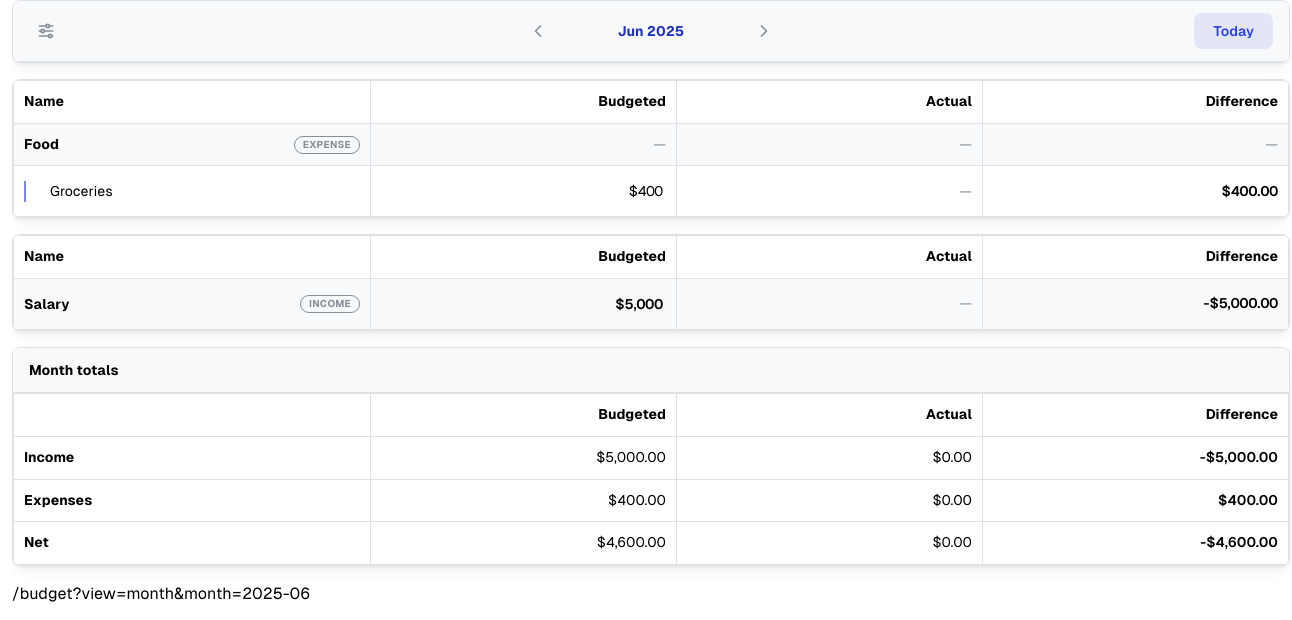
Scenario: BudgetMonthView › opens a category for the month picked in the URL
Check: the text "Jun 2025" is shown, box [618,23,684,39]
Click the button with aria-label "Open Salary transactions". click: [47, 304]
box: [24,294,70,314]
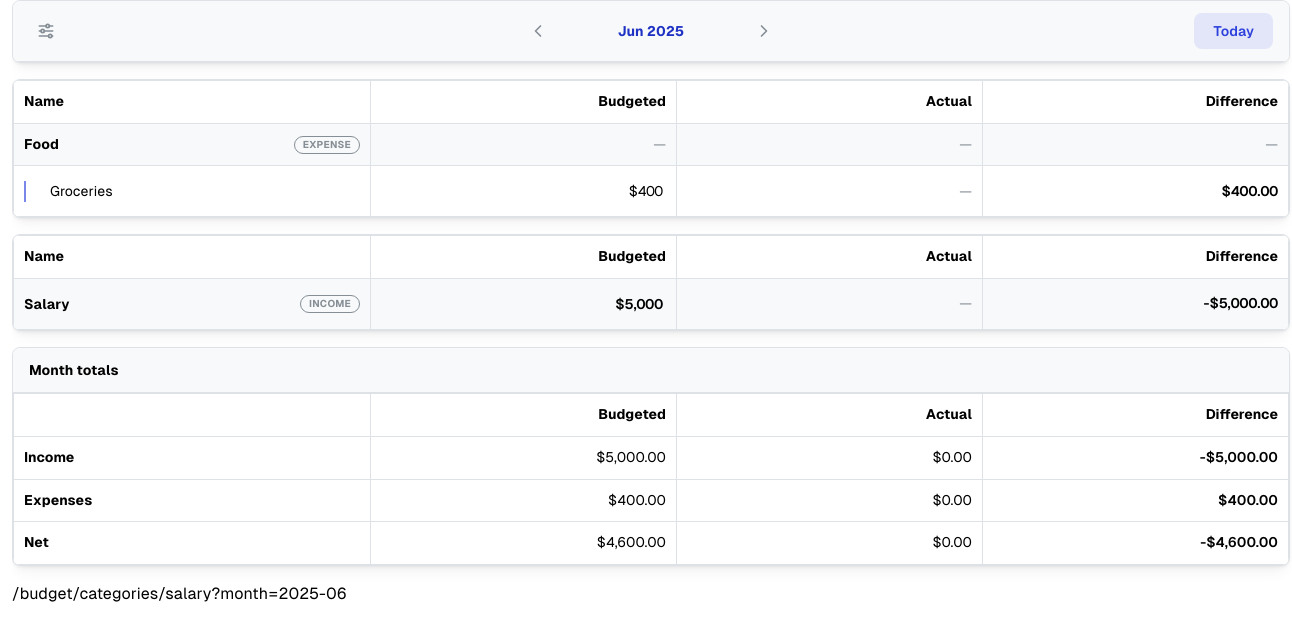
Check: the text with test id "location" reads "/budget/categories/salary?month=2025-06", box [12,584,347,603]
